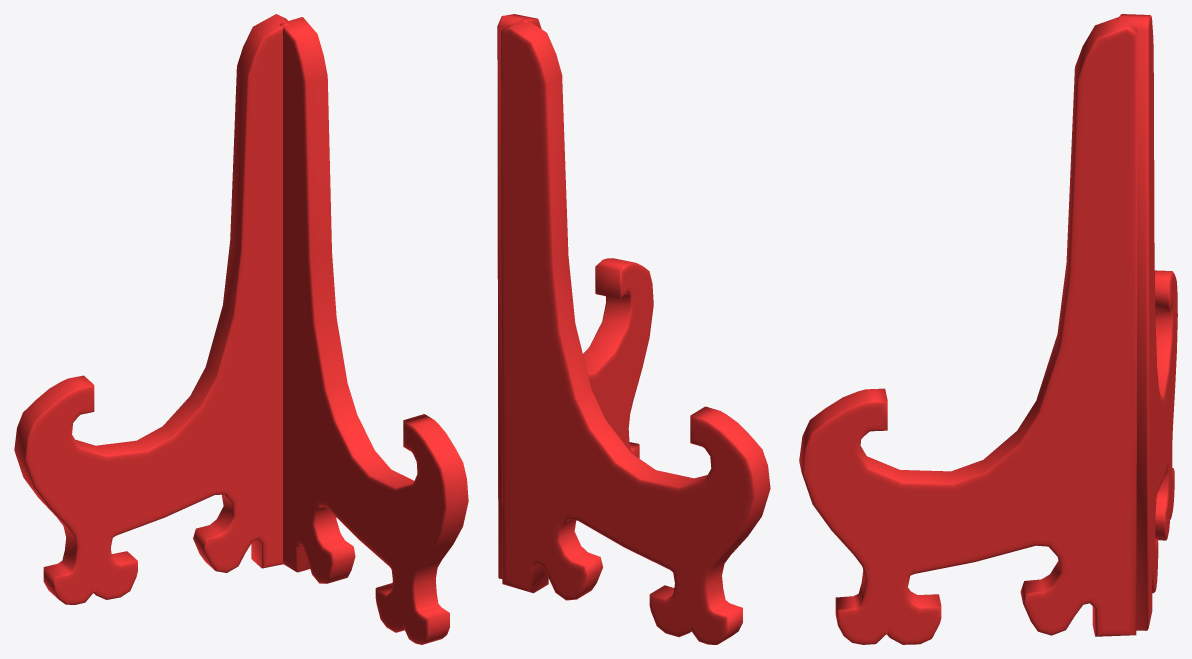
Rendered from K_Dish_Holder.fbx.
3 views of the same model, side by side, from view 1: azimuth 30°, elevation 25°; view 2: azimuth 150°, elevation 25°; view 3: azimuth 270°, elevation 25° (orthographic). The views are drawn at different scales.
Visible parts, largest first — view 1: SoportePlatoUnico; view 2: SoportePlatoUnico; view 3: SoportePlatoUnico.
Boxes of the visible parts, x1=… form: SoportePlatoUnico: x1=14, y1=14, x2=468, y2=644; SoportePlatoUnico: x1=497, y1=14, x2=770, y2=644; SoportePlatoUnico: x1=799, y1=14, x2=1177, y2=644.
Size of the model in its own units: 5.2 by 9.23 by 5.2.
